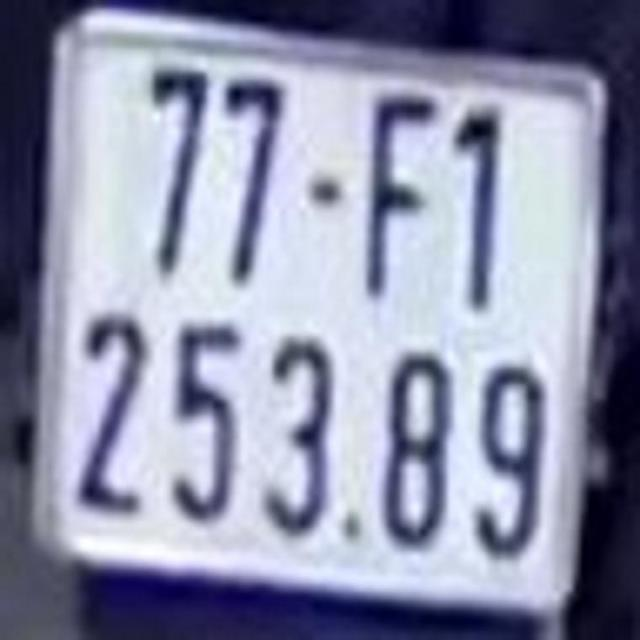1: (451, 100, 503, 312)
2: (73, 304, 145, 515)
3: (260, 326, 334, 538)
5: (171, 318, 240, 524)
7: (219, 71, 288, 288), (146, 61, 210, 276)
8: (380, 343, 450, 552)
9: (470, 358, 548, 566)
F: (366, 82, 438, 301)
